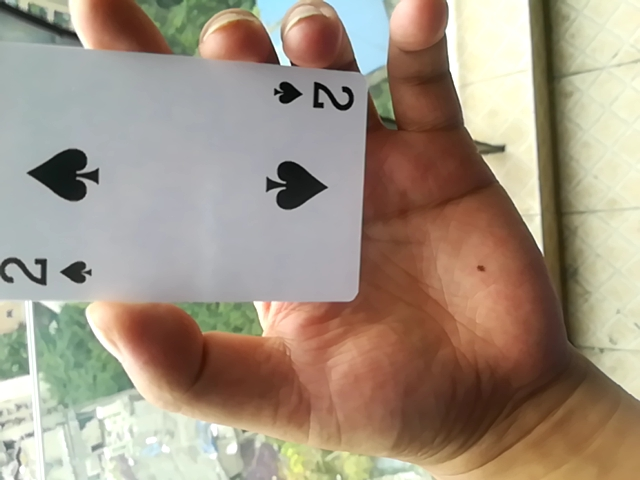ht 2: (3, 44, 371, 314)
